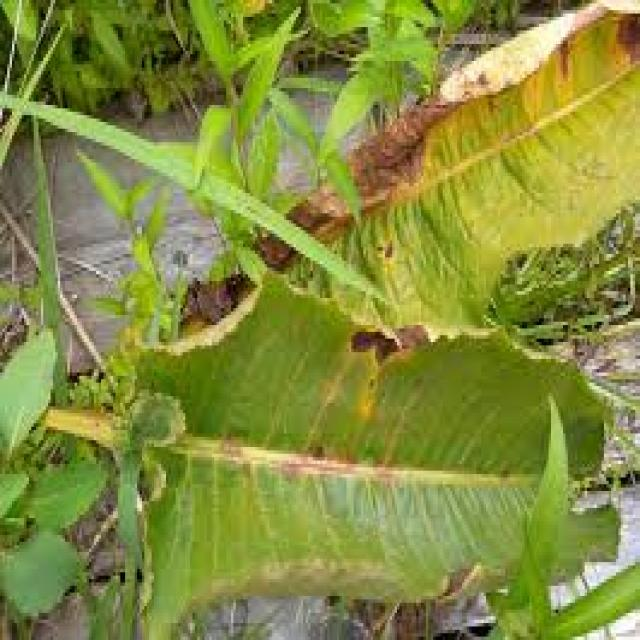organic waste: (79, 47, 640, 640)
